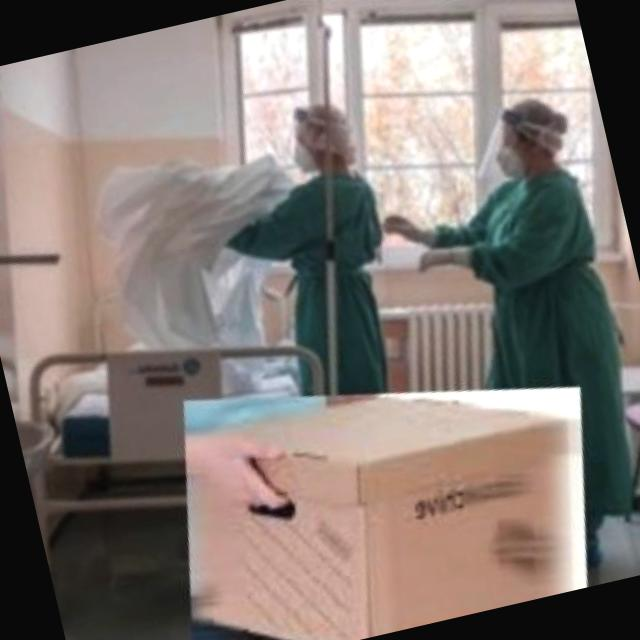box: (127, 304, 632, 640)
